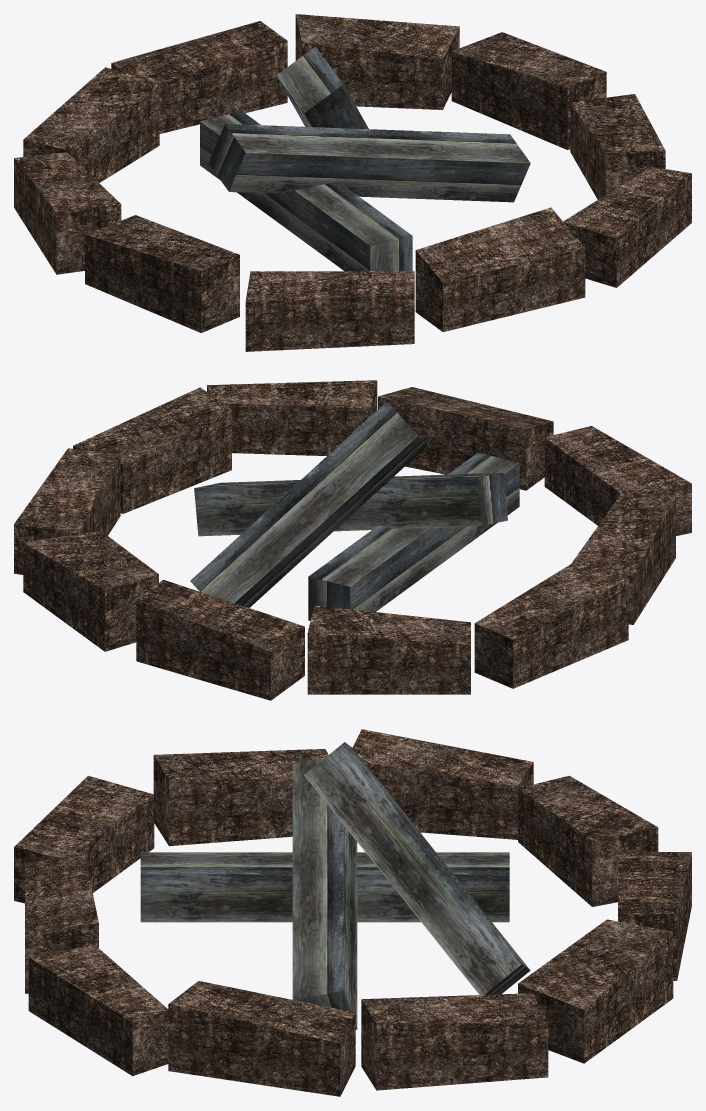
Rendered from objects_firept3.glb.
The picture shows the model from 3 angles, top to bottom: view 1: azimuth 30°, elevation 25°; view 2: azimuth 150°, elevation 25°; view 3: azimuth 270°, elevation 25°; orthographic projection. The views are drawn at different scales.
Parts seen in each view (by area): view 1: firept3; view 2: firept3; view 3: firept3.
Boxes of the visible parts, x1,y1,x2,y2 form: firept3: [14, 14, 691, 351]; firept3: [14, 380, 691, 700]; firept3: [14, 729, 691, 1096].
Bounding box in the file's own units: 3 × 0.9965 × 2.86.
2 materials, 2 textured.
